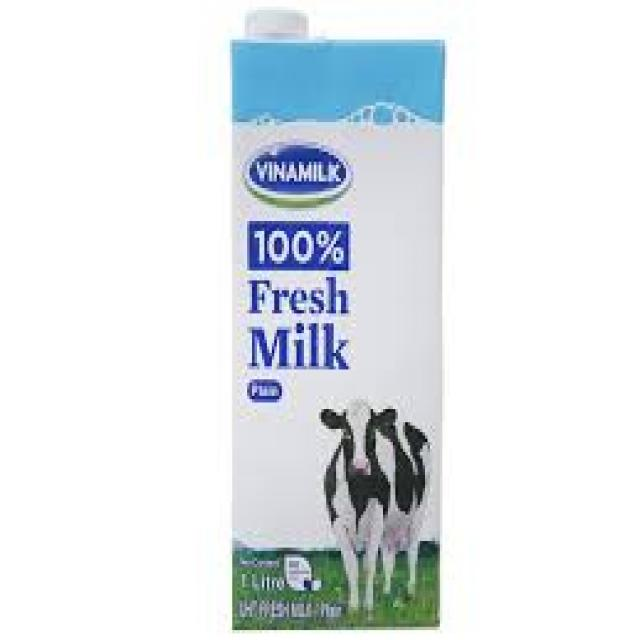non_white_jug: (216, 4, 461, 634)
